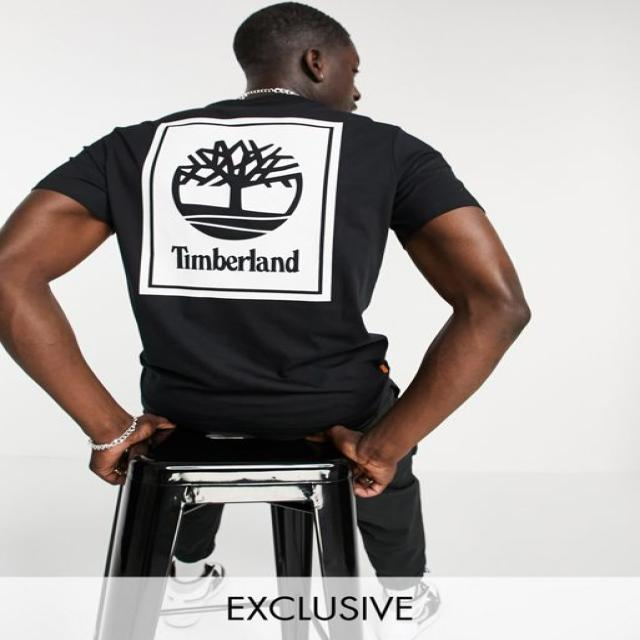tshirt: (31, 92, 484, 439)
